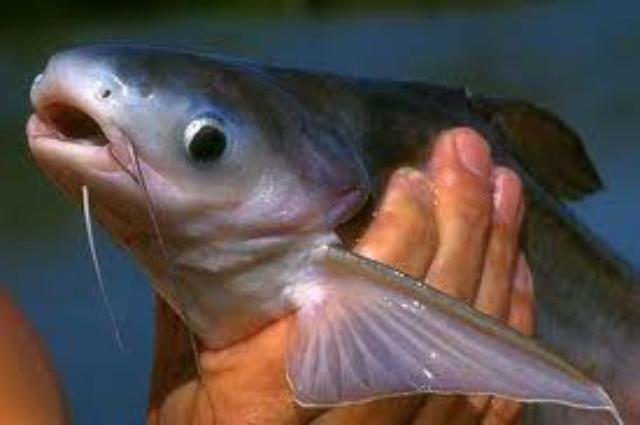Mulut: (8, 38, 142, 214)
Sirip Dada: (265, 232, 632, 425)
Sirip Punggung: (447, 52, 619, 246)
